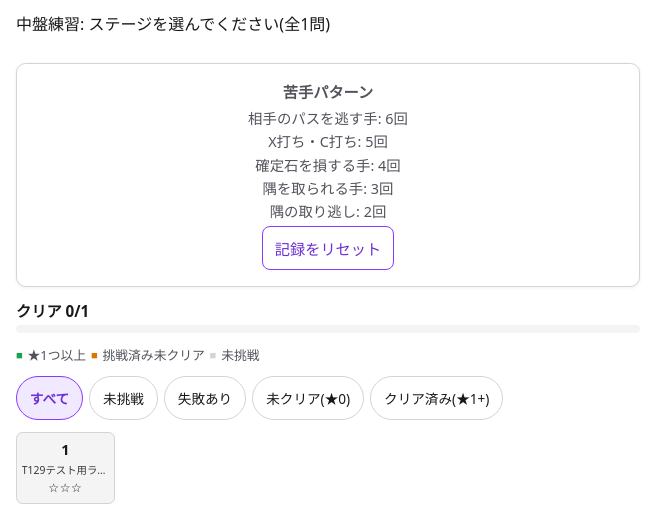
Test: T129: 苦手パターン統計の表示・リセット(ステージ一覧画面) › failCount降順で最大5件を表示し、リセットボタンで消せる(確認つき)
The width and height of the screenshot is (657, 521).
Expected: the list with class "midgame-pattern-stats__list" is shown, x1=248 y1=107 x2=408 y2=221
Click the button "記録をリセット".
click(328, 248)  # box x1=262 y1=226 x2=394 y2=270
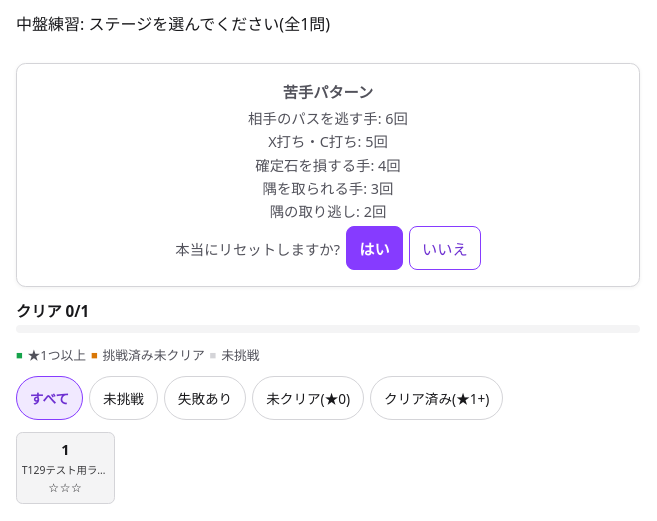
Result: the text "本当にリセットしますか?" is shown at x1=175 y1=240 x2=340 y2=259
Result: the button "はい" is shown
Click the button "はい".
click(374, 248)  # box x1=346 y1=226 x2=403 y2=270
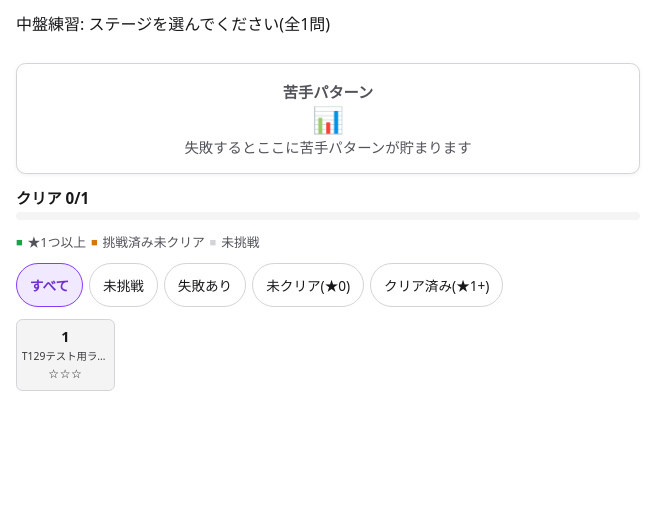
Result: the text "失敗するとここに苦手パターンが貯まります" is shown at x1=184 y1=138 x2=472 y2=157
